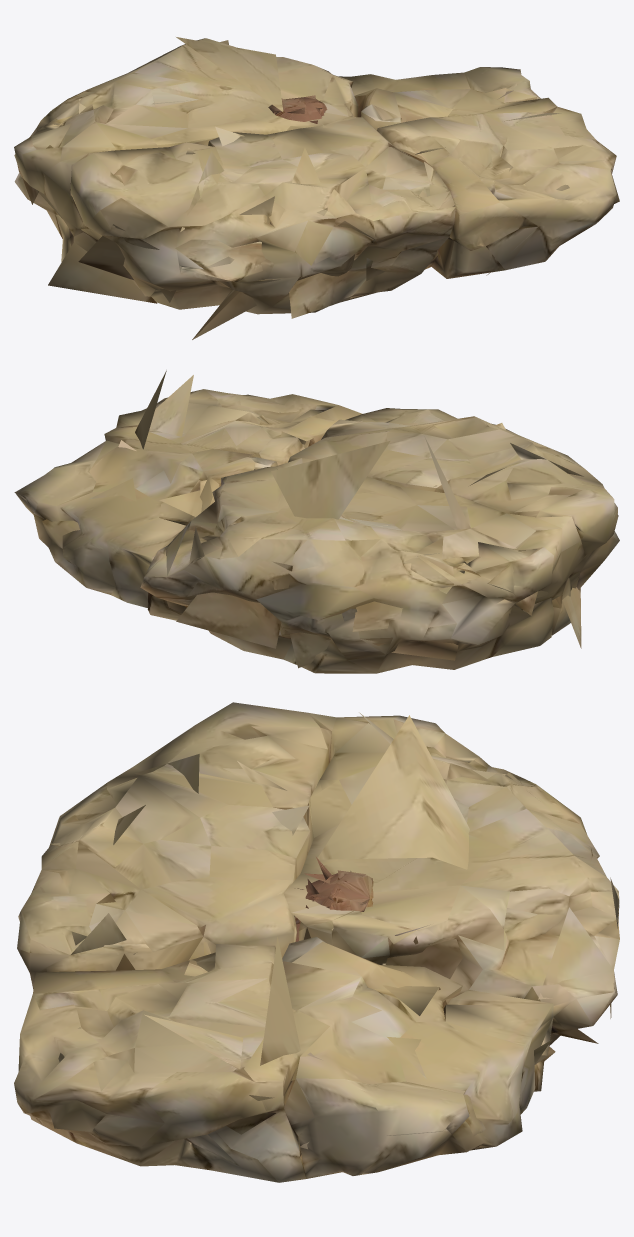
Rendered from rocks-arid.glb.
3 views of the same model, one above another, from view 1: azimuth 30°, elevation 25°; view 2: azimuth 150°, elevation 25°; view 3: azimuth 270°, elevation 25° (orthographic). The views are drawn at different scales.
Visible parts, largest first — view 1: rock-arid-outcrop_mesh, rock-arid-outcrop_far_mesh, rock-arid-sandstone_mesh; view 2: rock-arid-outcrop_mesh, rock-arid-outcrop_far_mesh; view 3: rock-arid-outcrop_mesh, rock-arid-outcrop_far_mesh, rock-arid-sandstone_mesh.
Boxes of the visible parts, bbox=[...] form: rock-arid-outcrop_mesh: bbox=[14, 38, 619, 314]; rock-arid-outcrop_far_mesh: bbox=[14, 37, 569, 339]; rock-arid-sandstone_mesh: bbox=[272, 97, 326, 121]; rock-arid-outcrop_mesh: bbox=[15, 389, 619, 673]; rock-arid-outcrop_far_mesh: bbox=[14, 370, 583, 668]; rock-arid-outcrop_mesh: bbox=[14, 702, 619, 1182]; rock-arid-outcrop_far_mesh: bbox=[40, 712, 619, 1166]; rock-arid-sandstone_mesh: bbox=[294, 873, 373, 941].
Bounding box in the file's own units: 6.34 × 2.63 × 4.7.
Materials: 4 (4 with a texture image).
